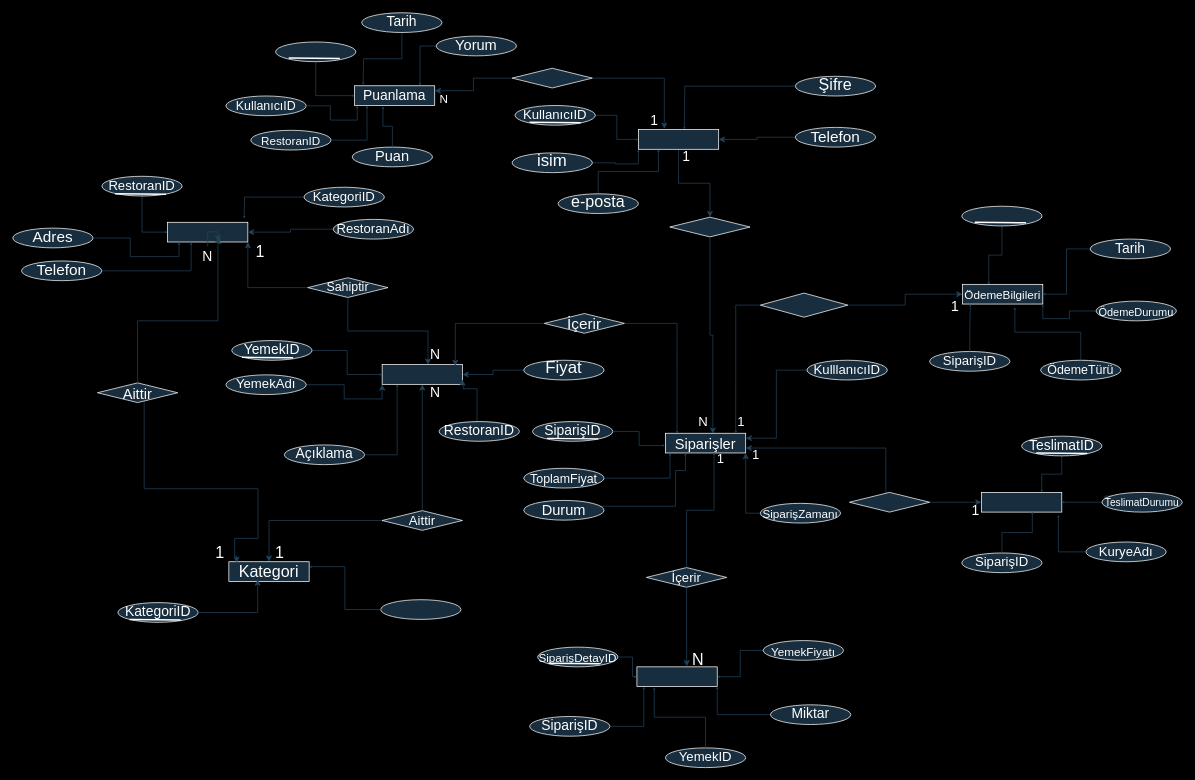
This 1195x780 diagram has some shape labels left out. Here are the shapes that lost their labels. From the top down, the box of each, then its label:
(275, 41, 356, 62): YorumID
(511, 68, 592, 88): Yapar
(638, 129, 719, 149): kullanıcılar
(167, 222, 248, 242): Restoranlar
(669, 216, 750, 237): Verir
(961, 205, 1042, 226): ÖdemeID
(760, 292, 848, 317): Ödeme Yapar
(381, 364, 462, 384): Yemekler
(849, 492, 930, 512): Teslim Edilir
(981, 492, 1062, 512): Teslimat
(380, 599, 461, 619): KategoriAdı
(636, 666, 717, 687): SiparişDetay
